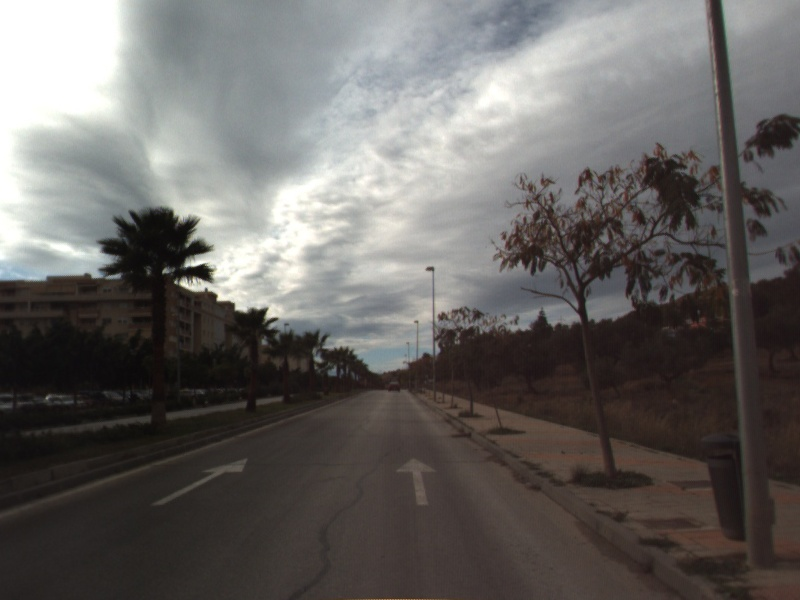STRAIGHT: (148, 455, 251, 508), (394, 455, 439, 507)
